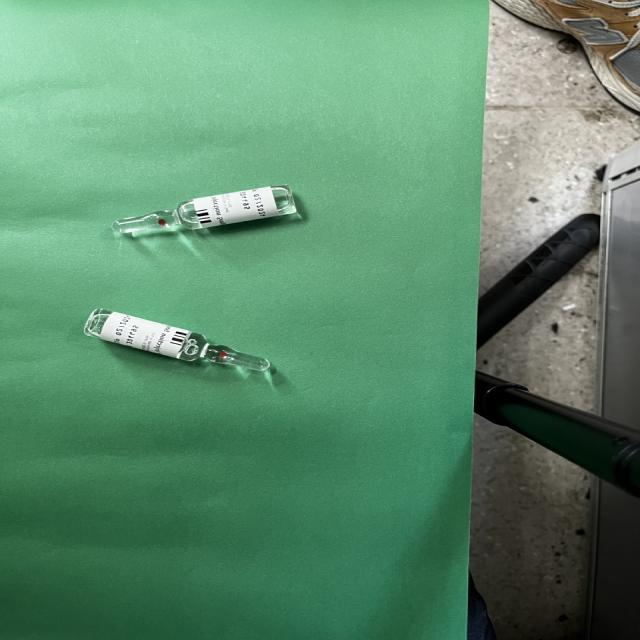Ampoules: (83, 308, 270, 372), (111, 186, 297, 234)
